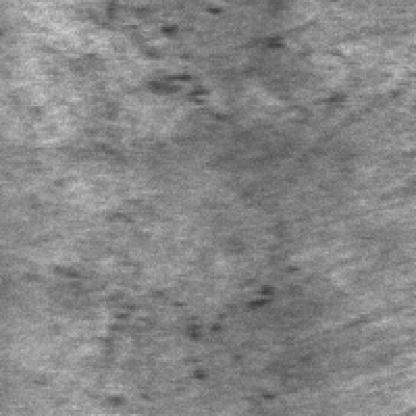rolled-in_scale: (46, 256, 287, 387), (70, 0, 304, 106)
